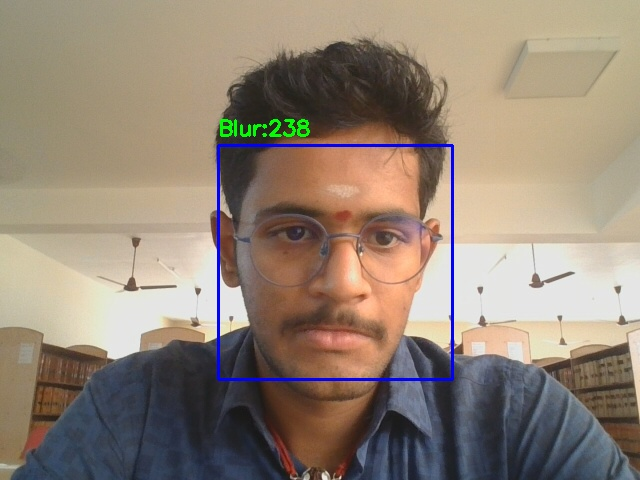real: (218, 145, 452, 379)
